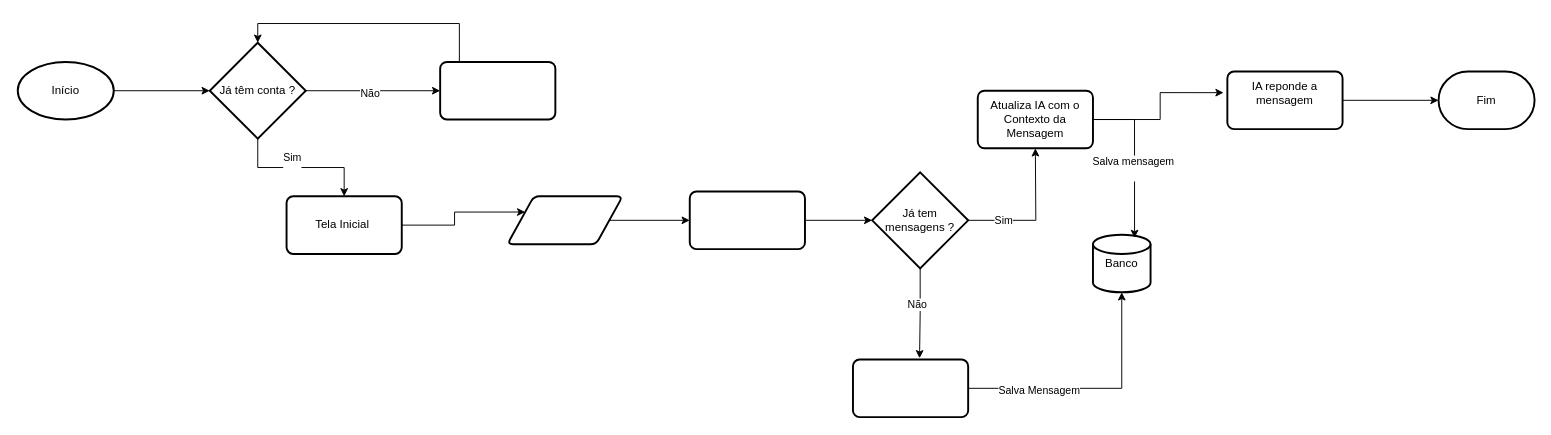
Some shapes in this 1551 by 435 pixel diagram are drawn without their labels. Here are the shapes that lost their labels. From the top down, the centre of each, then its label:
At (497,90): "Mensagem de Soliticação".
At (564,220): "Usuário insere mensagem".
At (746,220): "API recebe dados".
At (910,388): "Contexto Genérico".
